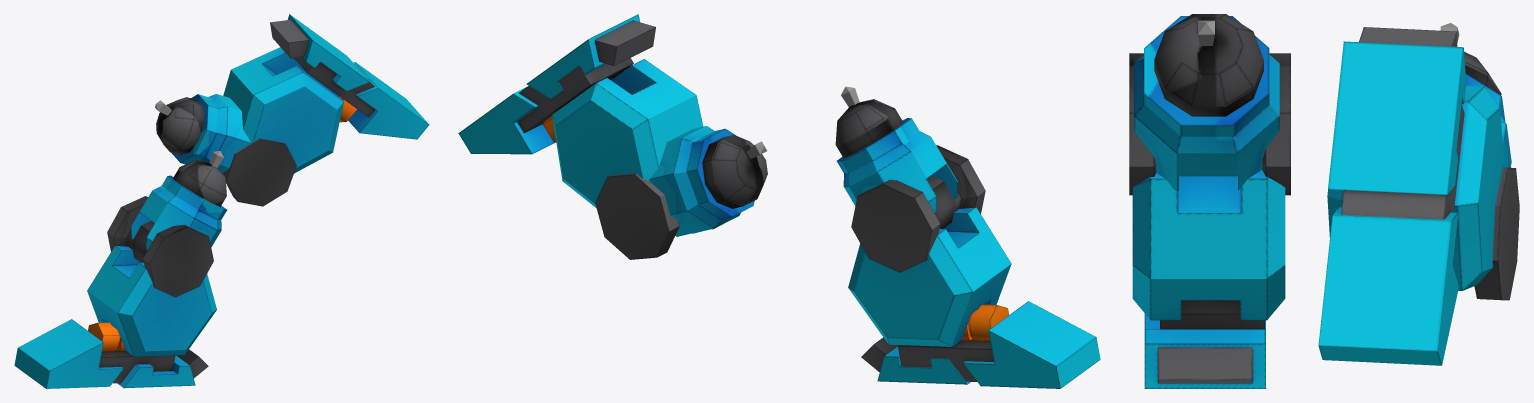
File: Bottom_Running19.obj
3 views of the same model, side by side, from view 1: azimuth 30°, elevation 25°; view 2: azimuth 150°, elevation 25°; view 3: azimuth 270°, elevation 25° (orthographic). The views are drawn at different scales.
Visible parts, largest first — view 1: Object013, Object010, Object014, Object011, Object009, Object012; view 2: Object013, Object010, Object014, Object011, Object009, Object012; view 3: Object011, Object013, Object012, Object010, Object014, Object009, Bone023.
Boxes of the visible parts, left/top/right/bottom form: Object013: left=87, top=196, right=216, bottom=356; Object010: left=222, top=47, right=343, bottom=206; Object014: left=14, top=319, right=208, bottom=388; Object011: left=270, top=14, right=429, bottom=139; Object009: left=156, top=94, right=250, bottom=173; Object012: left=131, top=159, right=226, bottom=250; Object013: left=848, top=145, right=1011, bottom=346; Object010: left=552, top=59, right=716, bottom=259; Object014: left=861, top=301, right=1100, bottom=388; Object011: left=458, top=14, right=655, bottom=154; Object009: left=649, top=126, right=767, bottom=236; Object012: left=835, top=99, right=957, bottom=213; Object011: left=1318, top=27, right=1466, bottom=365; Object013: left=1129, top=53, right=1290, bottom=320; Object012: left=1134, top=14, right=1279, bottom=191; Object010: left=1327, top=86, right=1519, bottom=300; Object014: left=1144, top=300, right=1265, bottom=388; Object009: left=1464, top=51, right=1511, bottom=167; Bone023: left=1198, top=20, right=1214, bottom=46.
Size of the model in its own units: 223 by 130 by 91.19.
